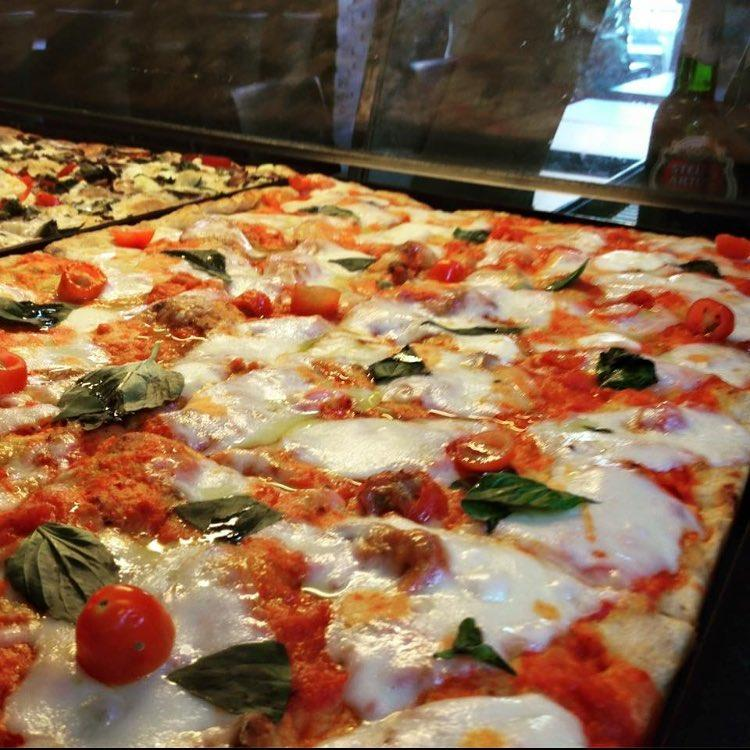Basil: (169, 630, 308, 727), (9, 517, 124, 619), (55, 342, 188, 427), (452, 460, 604, 530), (167, 485, 281, 543), (432, 617, 525, 682), (580, 337, 677, 398), (165, 230, 236, 288), (364, 329, 433, 386), (430, 307, 529, 345), (0, 291, 70, 334), (534, 250, 586, 300), (322, 237, 382, 280), (675, 254, 728, 286), (295, 197, 364, 221), (73, 190, 121, 215), (1, 193, 40, 221), (76, 154, 120, 178), (457, 219, 493, 246), (118, 147, 169, 166), (38, 171, 84, 192), (0, 147, 40, 165), (170, 153, 197, 173), (154, 171, 179, 188)
Pizza: (0, 124, 750, 750)
Tomatoes: (74, 581, 180, 688), (350, 466, 450, 530), (448, 424, 518, 474), (683, 287, 740, 346), (286, 277, 350, 325), (54, 259, 115, 306), (225, 287, 279, 322), (103, 220, 161, 249), (0, 344, 29, 397), (428, 254, 472, 286), (288, 172, 332, 197), (28, 185, 64, 210), (198, 155, 240, 171)
